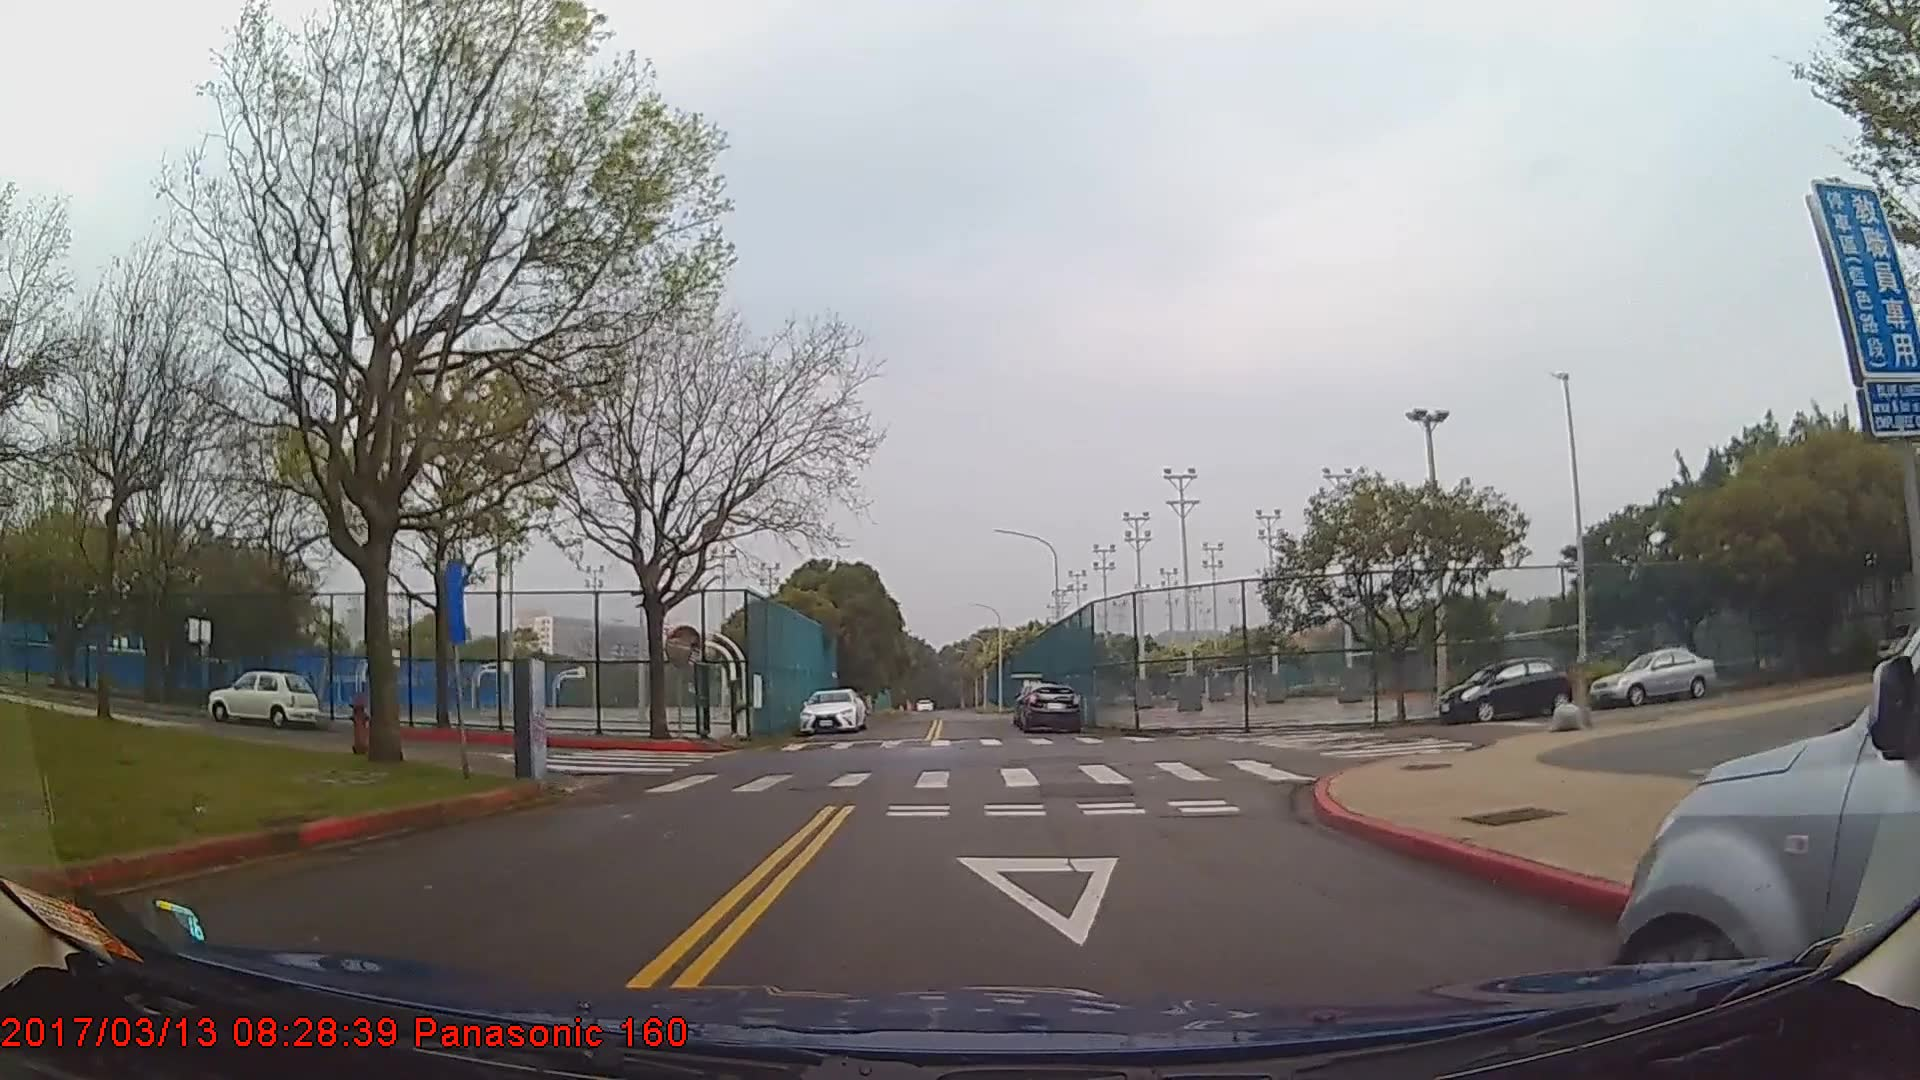vehicle: (1613, 622, 1920, 1052), (1436, 659, 1571, 724), (1589, 645, 1718, 708), (206, 666, 319, 727), (1015, 682, 1083, 735), (795, 687, 864, 736), (1876, 618, 1920, 666)
